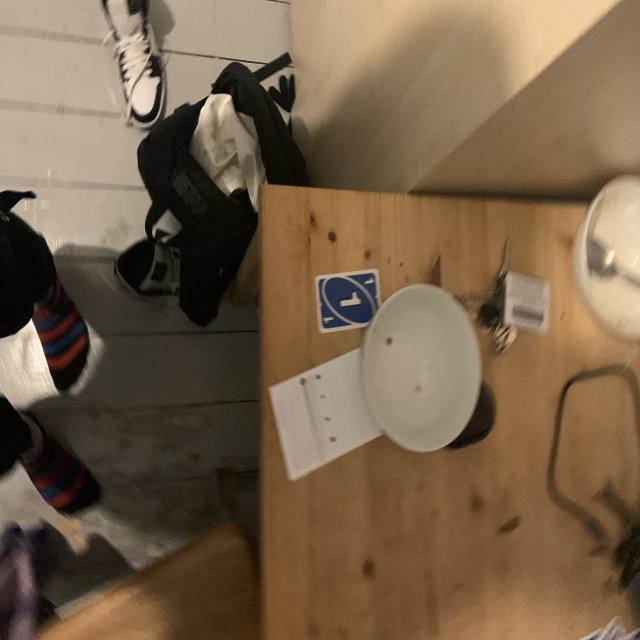lblue-1: (361, 274, 376, 289)
